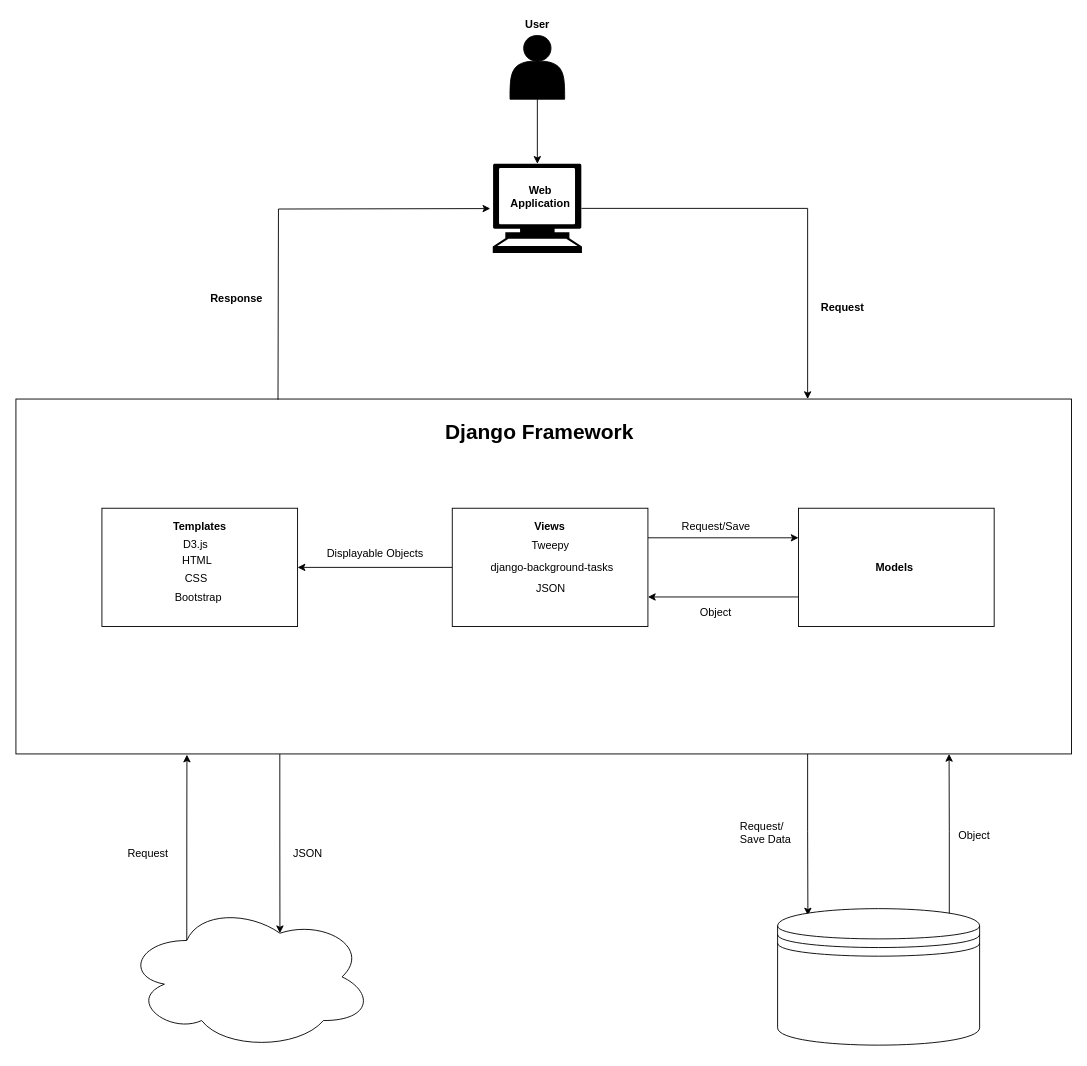
Image size: 1087x1066. Some labels were removed from this diagram. Each missing label, with the centre of its shape:
SQLite Database: (878,976)
Twitter API's: (248,976)
